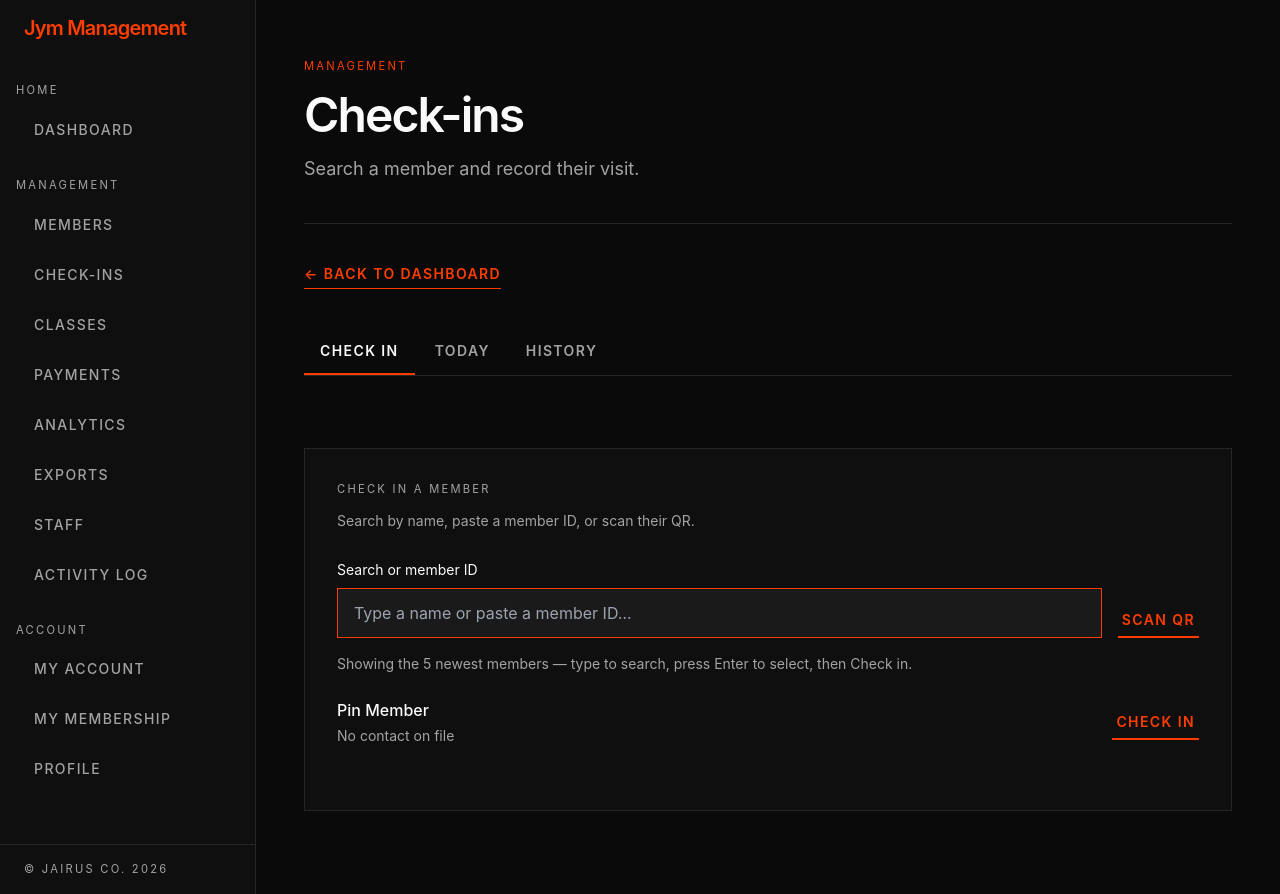
Scenario: CheckInsPage › asks for the PIN when a member has one, and checks them in on a correct PIN
Expected: the text "Pin Member" is shown, [337, 700, 429, 720]
Click the button "Check in".
click(1156, 722)  # box [1112, 704, 1199, 740]
(page scrolled)
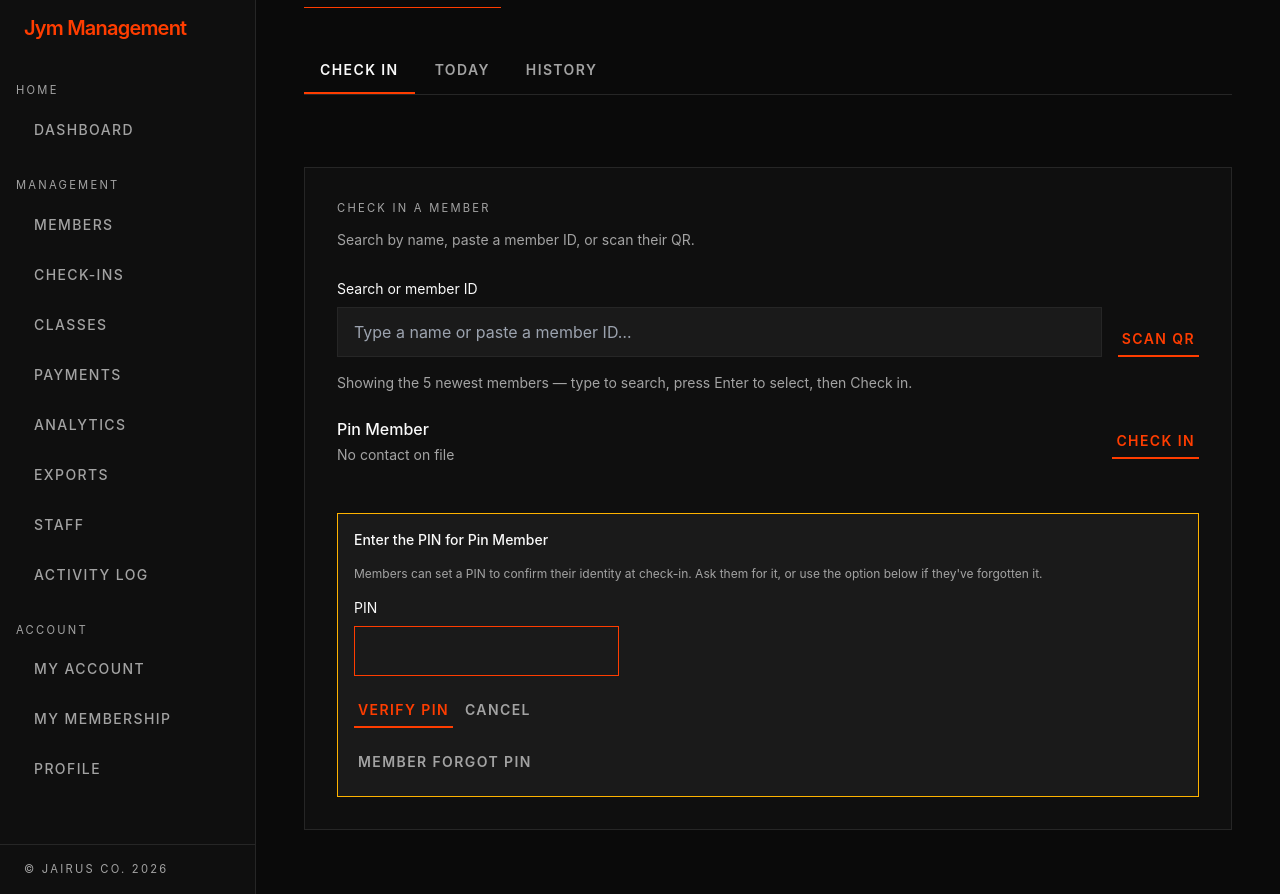
Now the text "Enter the PIN for Pin Member" is shown, box [354, 531, 548, 548]
Type "4321" into the password field labelled "PIN".
click(487, 651); type("4321")  # box [354, 626, 619, 676]
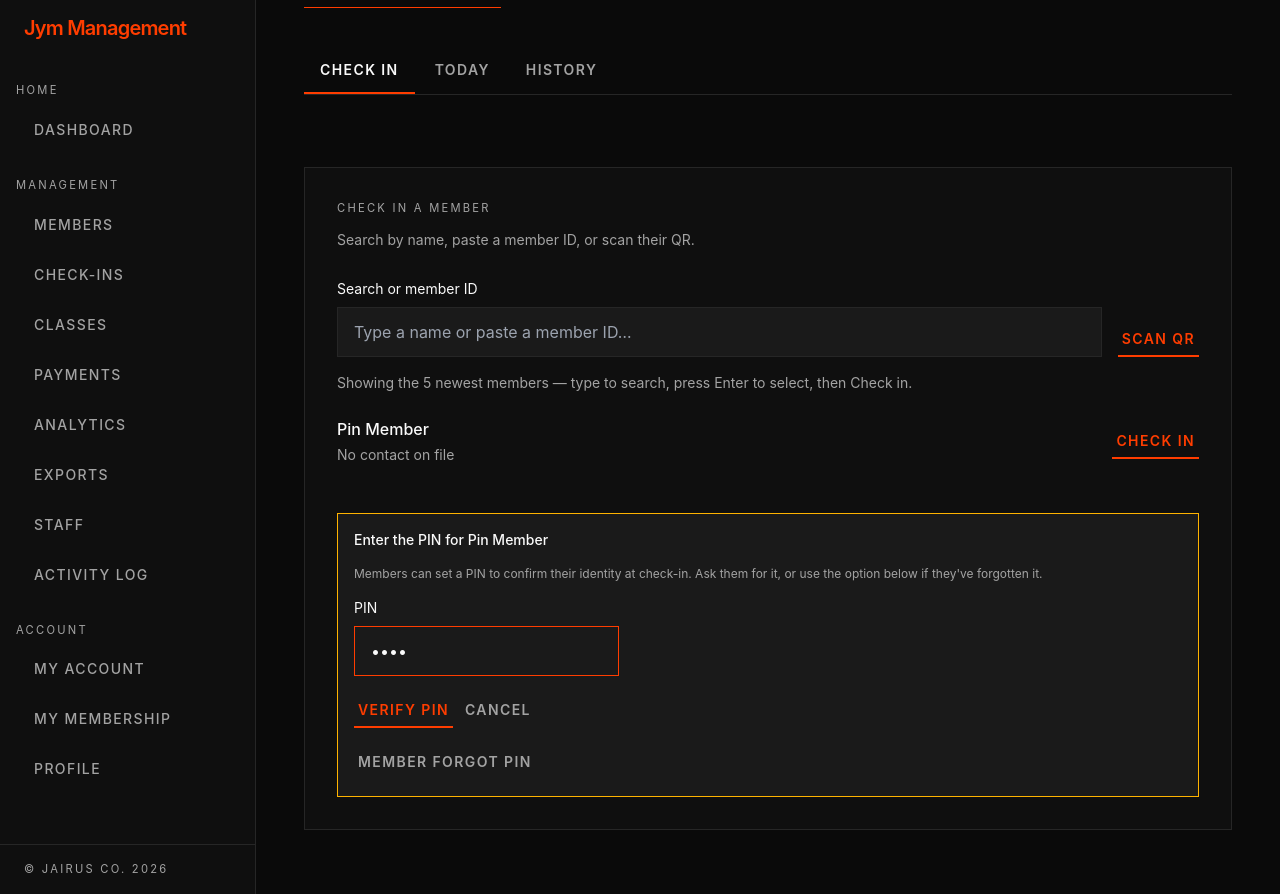
Click the button "Verify PIN".
click(404, 710)  # box [354, 692, 453, 728]
(page scrolled)
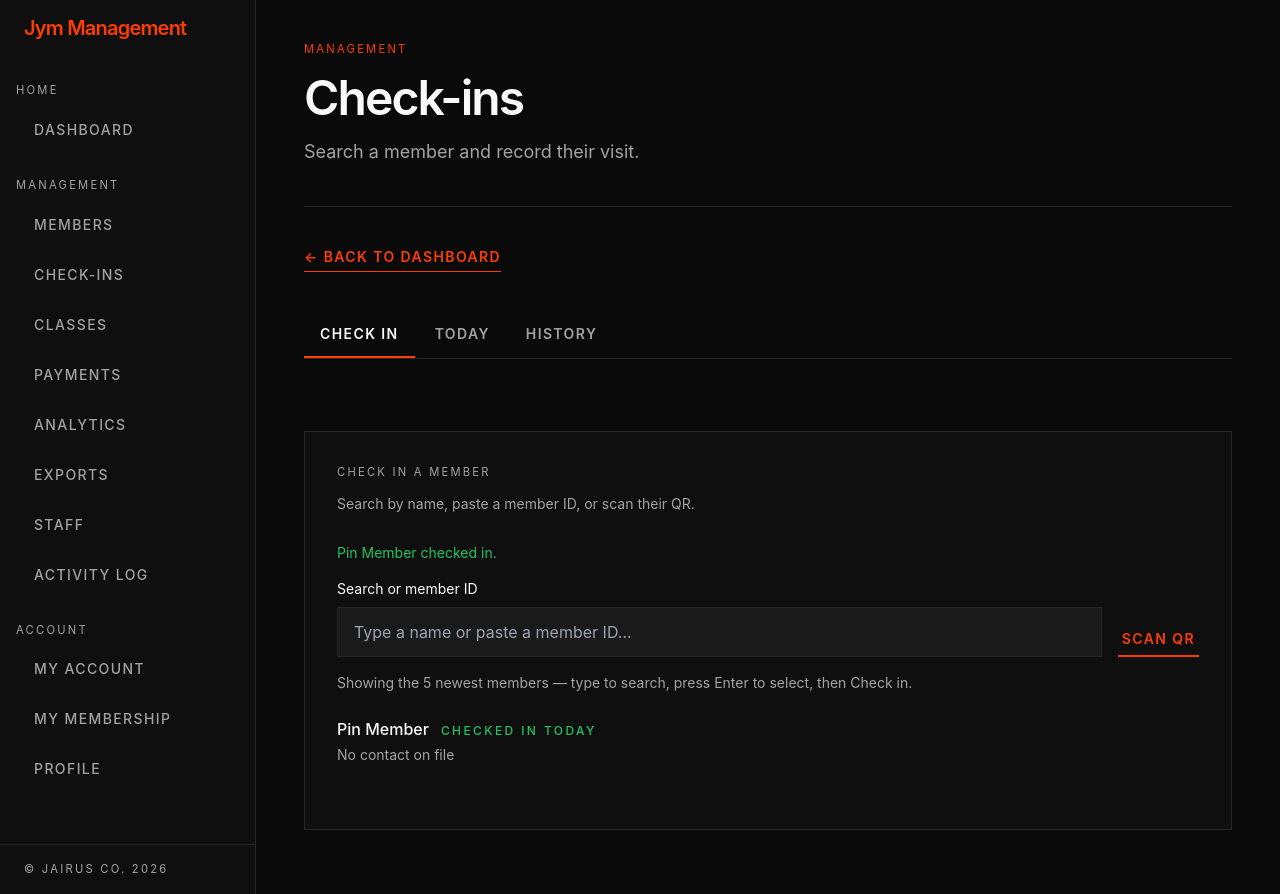
Now the text "Pin Member checked in." is shown, box [337, 544, 497, 561]
